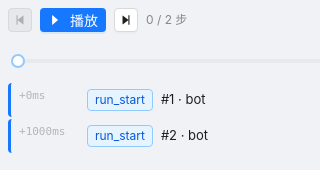
EventReplayTimeline › 点击播放按钮
Click the button "播放" at {"x": 73, "y": 20}, box [40,8,106,32]
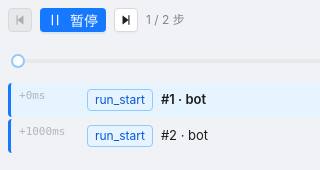
Check: the text "暂停" is shown, box [70,10,98,30]
